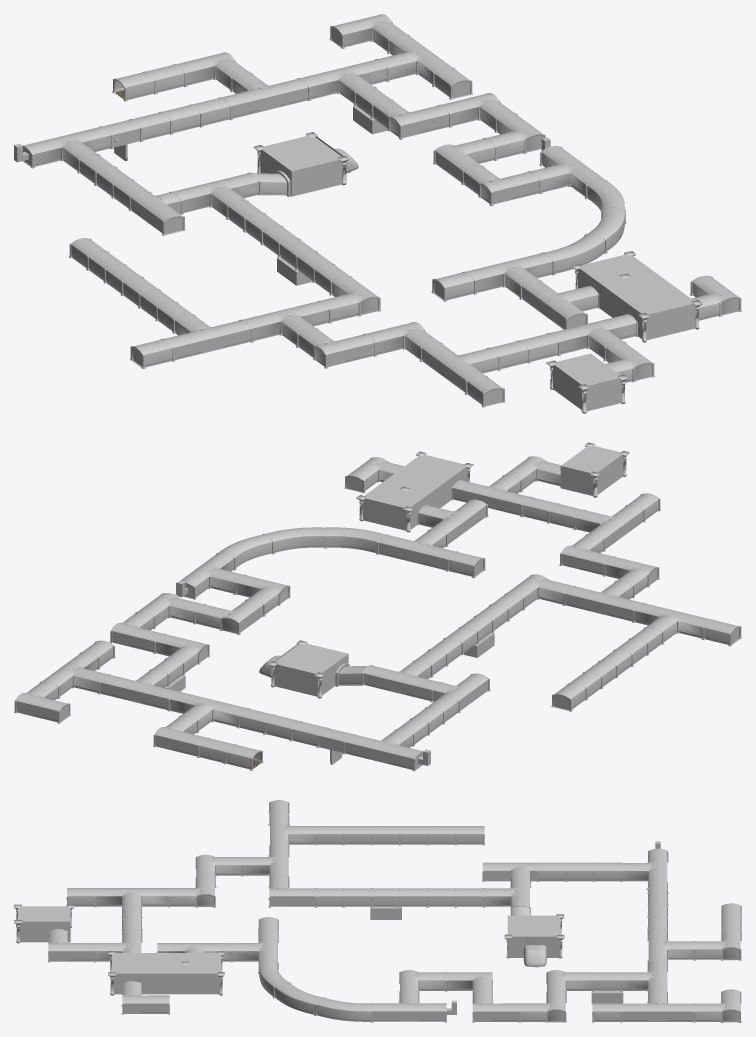
The model's file is LVL1-ZONA2.FBX.
3 views of the same model, one above another, from view 1: azimuth 30°, elevation 25°; view 2: azimuth 150°, elevation 25°; view 3: azimuth 270°, elevation 25° (orthographic). The views are drawn at different scales.
Parts seen in each view (by area): view 1: Laberint-LV1, Stoiki; view 2: Laberint-LV1, Stoiki; view 3: Laberint-LV1, Stoiki.
Part boxes in pixels (left/top/right/bottom): Laberint-LV1: left=14, top=14, right=738, bottom=411; Stoiki: left=22, top=14, right=741, bottom=413; Laberint-LV1: left=16, top=445, right=739, bottom=769; Stoiki: left=14, top=442, right=741, bottom=771; Laberint-LV1: left=18, top=801, right=740, bottom=1022; Stoiki: left=14, top=800, right=741, bottom=1022.
Size of the model in its own units: 4008 by 302 by 5880.
